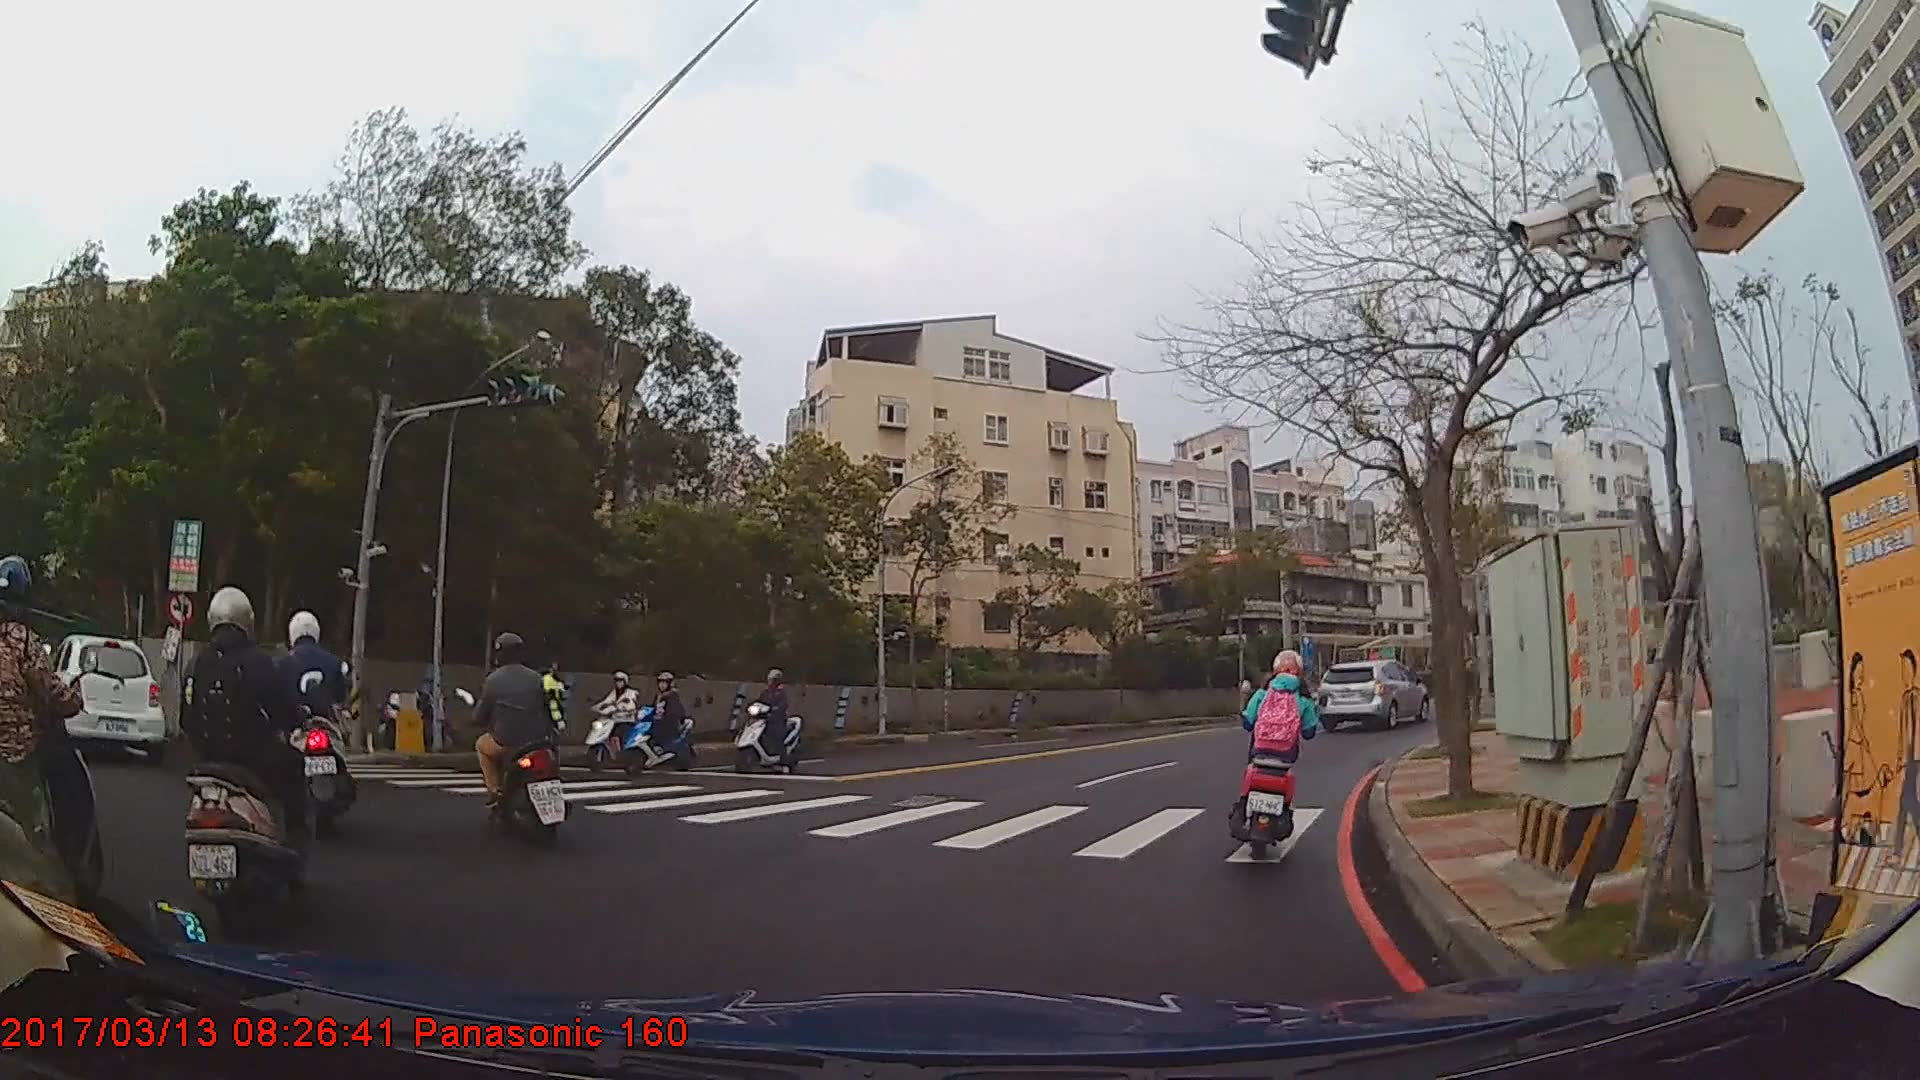rider: (179, 586, 320, 927), (1, 553, 108, 940), (458, 633, 571, 854), (273, 613, 360, 846), (1235, 650, 1322, 853), (732, 671, 803, 775), (623, 672, 694, 775), (585, 674, 648, 769)
vehicle: (39, 634, 162, 757), (1314, 661, 1429, 733)
